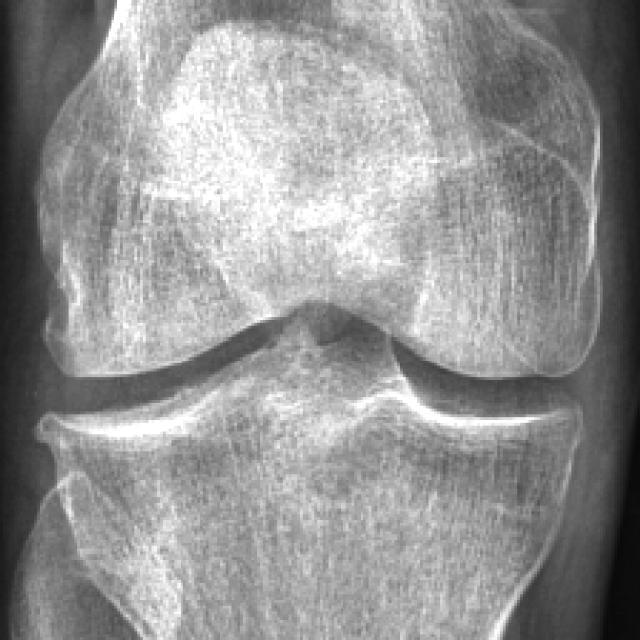femur: (37, 0, 604, 381)
tibia: (33, 332, 584, 640)
